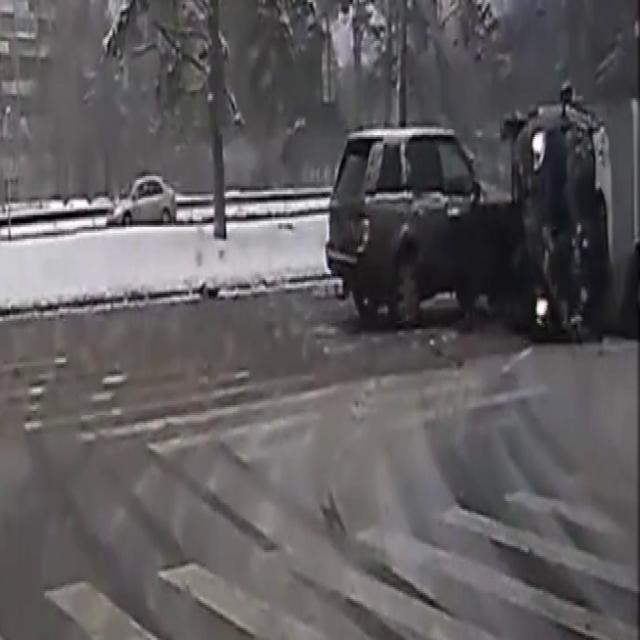accident: (325, 86, 640, 336), (498, 44, 636, 353)
